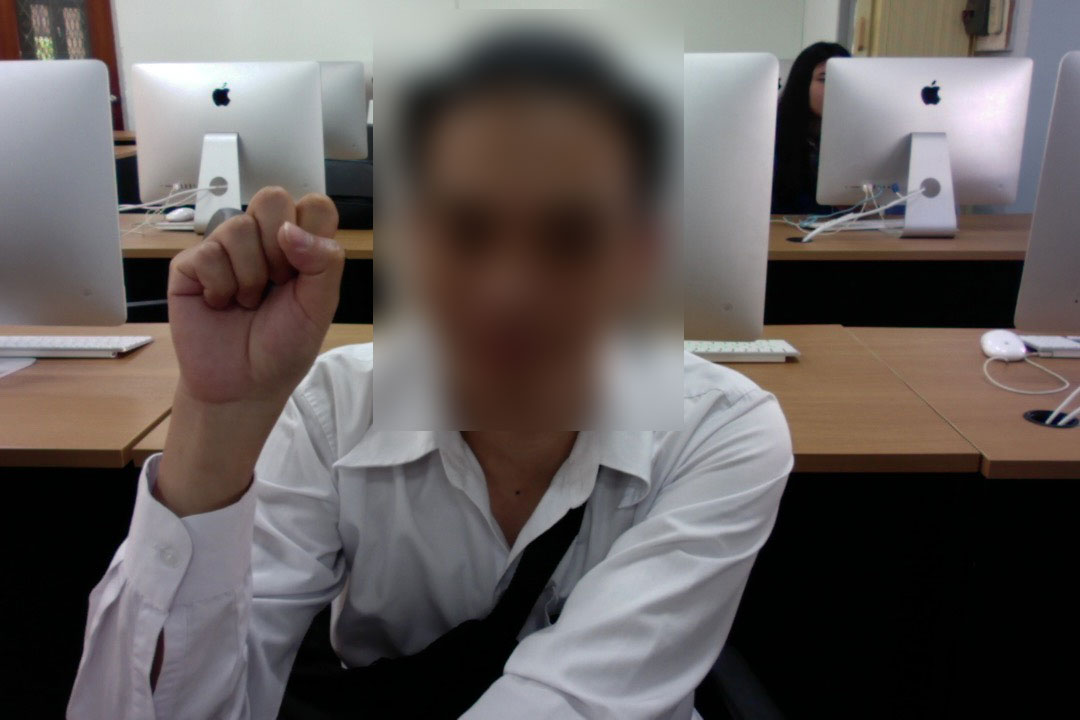sor: (158, 180, 350, 458)
